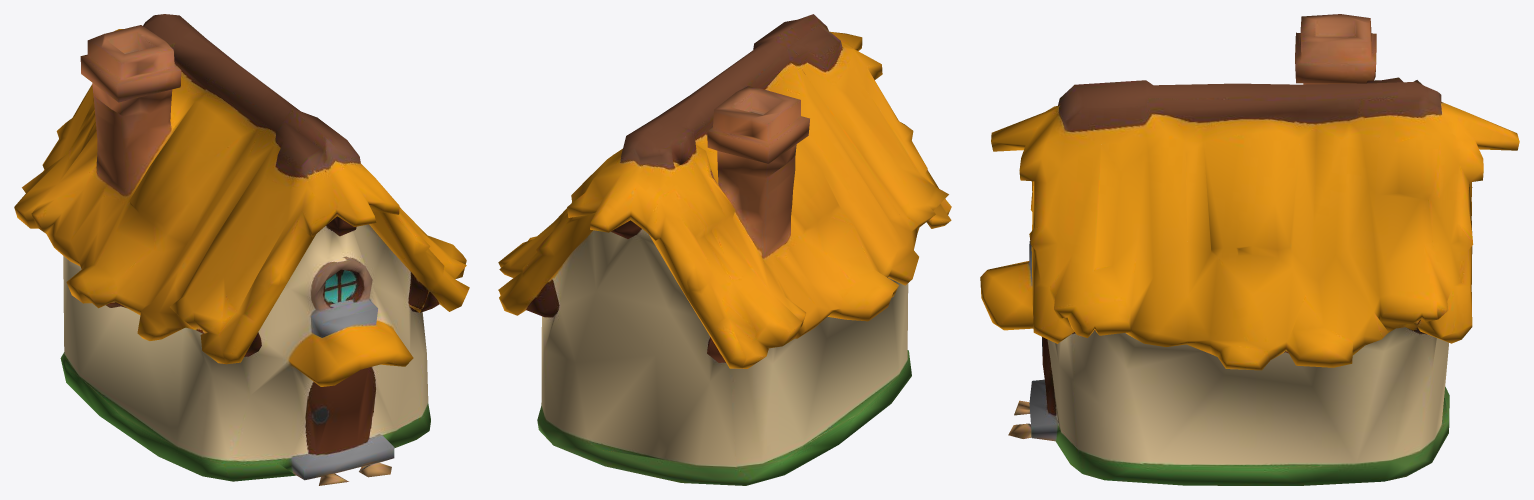
The model's file is hut_3.glb.
3 views of the same model, side by side, from view 1: azimuth 30°, elevation 25°; view 2: azimuth 150°, elevation 25°; view 3: azimuth 270°, elevation 25° (orthographic). The views are drawn at different scales.
Parts seen in each view (by area): view 1: ЦІЛЬ; view 2: ЦІЛЬ; view 3: ЦІЛЬ.
Part boxes in pixels (x1,y1,x2,y2): ЦІЛЬ: (14,14,469,485); ЦІЛЬ: (498,14,951,485); ЦІЛЬ: (980,14,1519,485).
Size of the model in its own units: 1.44 by 1.42 by 1.95.
Materials: 1 (1 with a texture image).
